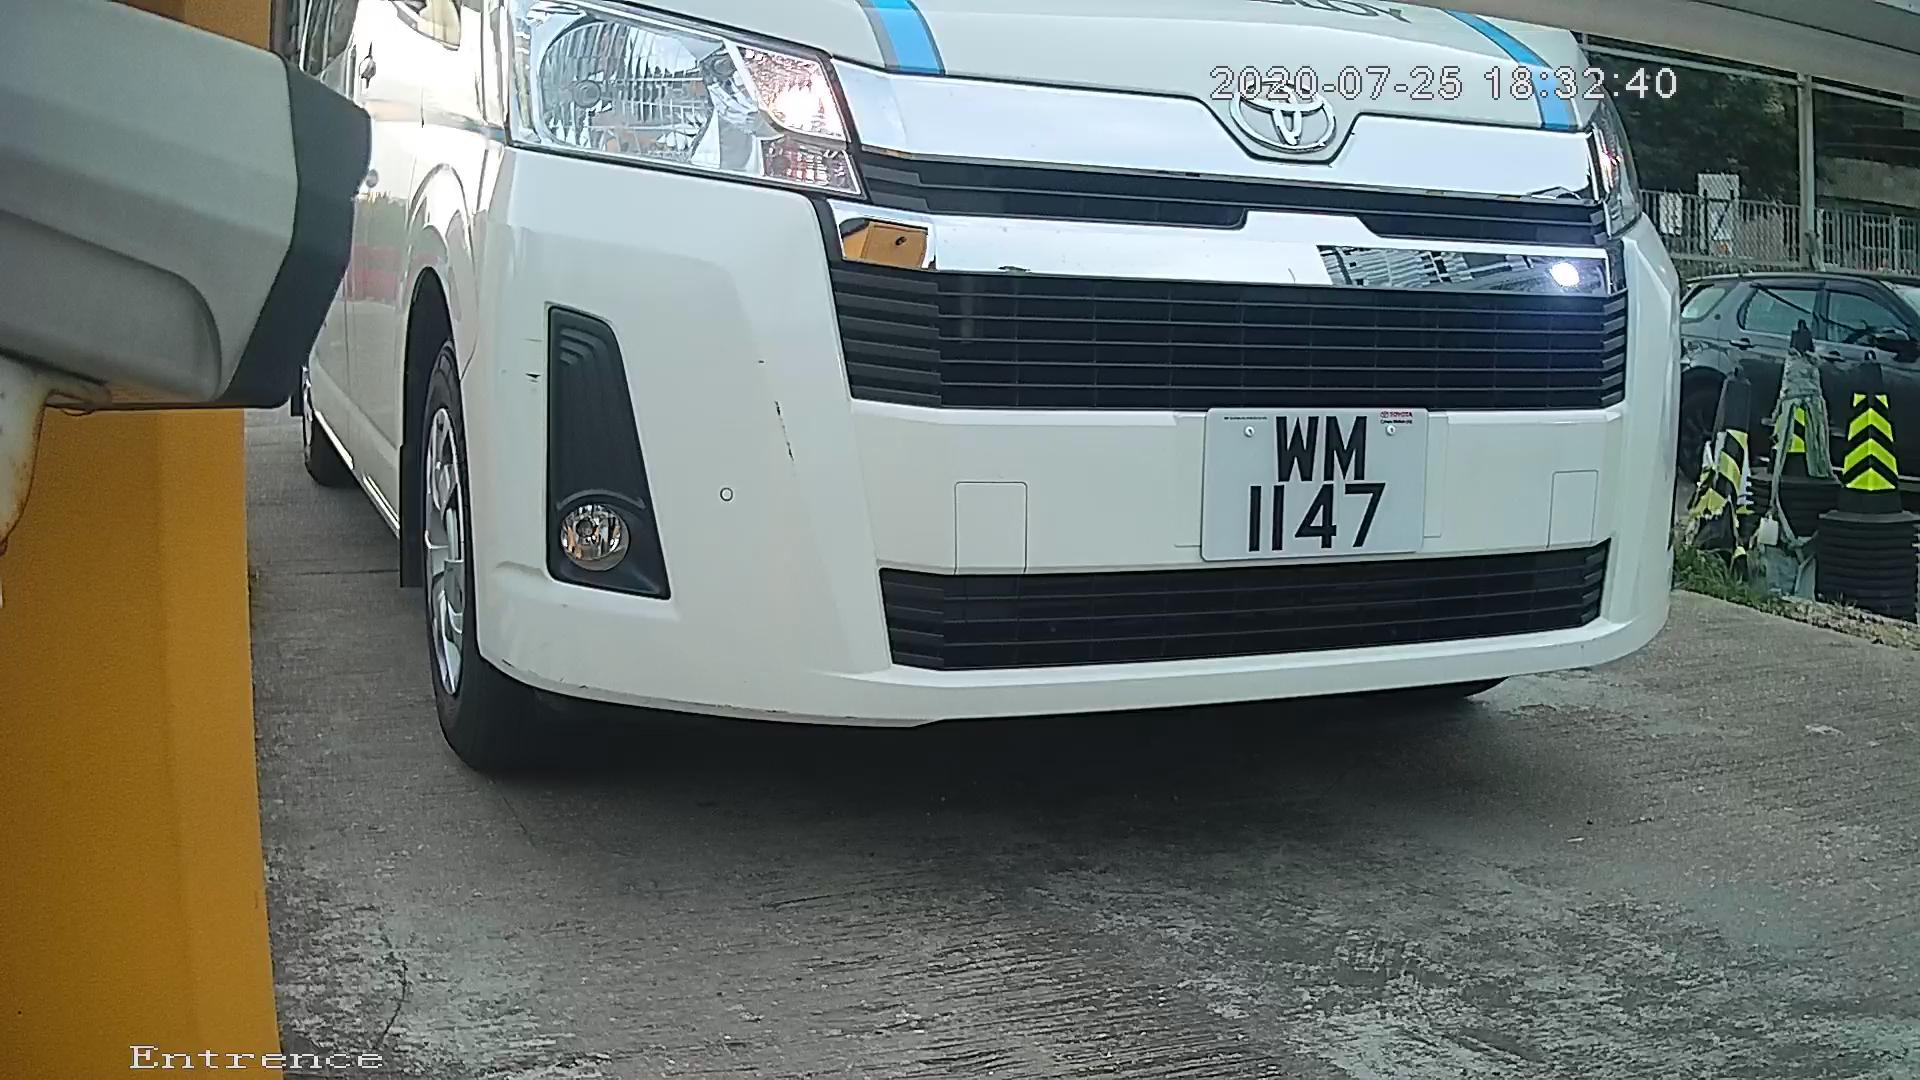License Plate: (1158, 391, 1458, 589)
